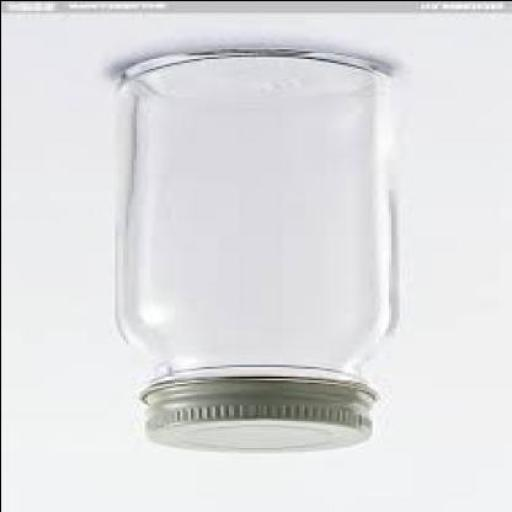glass: (114, 52, 389, 387)
metal: (135, 379, 372, 453)
